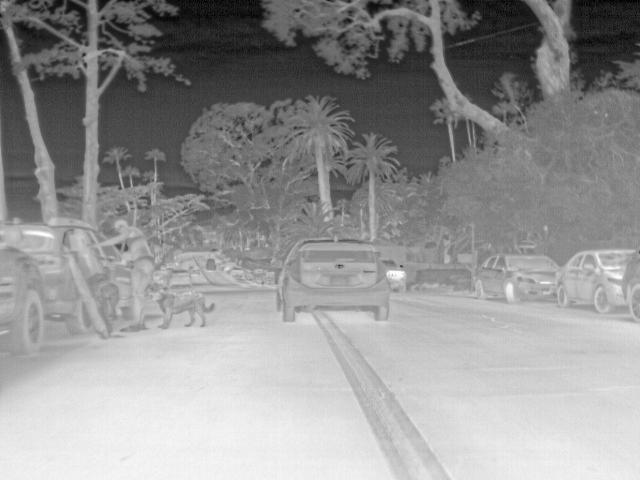car: (1, 220, 95, 336), (276, 237, 390, 322), (2, 245, 46, 356), (556, 248, 630, 312), (472, 252, 563, 303), (621, 246, 640, 322), (382, 259, 408, 292), (151, 270, 171, 288), (253, 268, 268, 285), (163, 260, 178, 274), (239, 271, 254, 284), (205, 258, 219, 271), (229, 266, 242, 280), (263, 272, 276, 286), (186, 266, 199, 276)
dog: (154, 288, 216, 330)
person: (95, 217, 157, 332)
